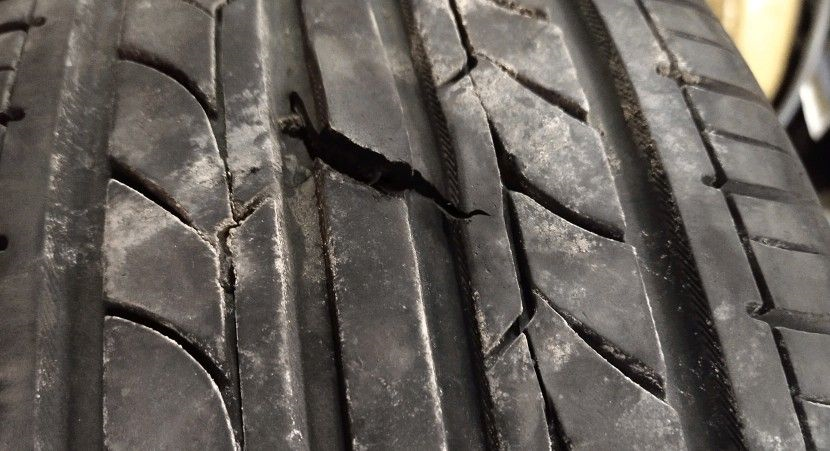tr: (283, 87, 492, 226)
